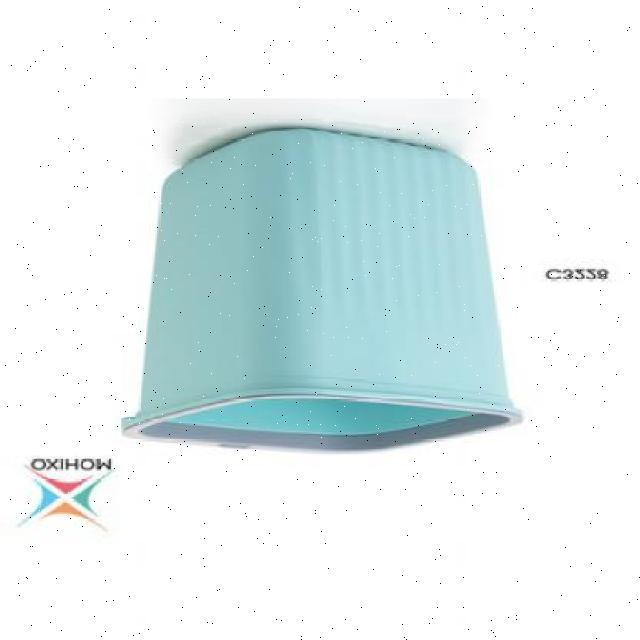garbage container: (113, 116, 541, 461)
